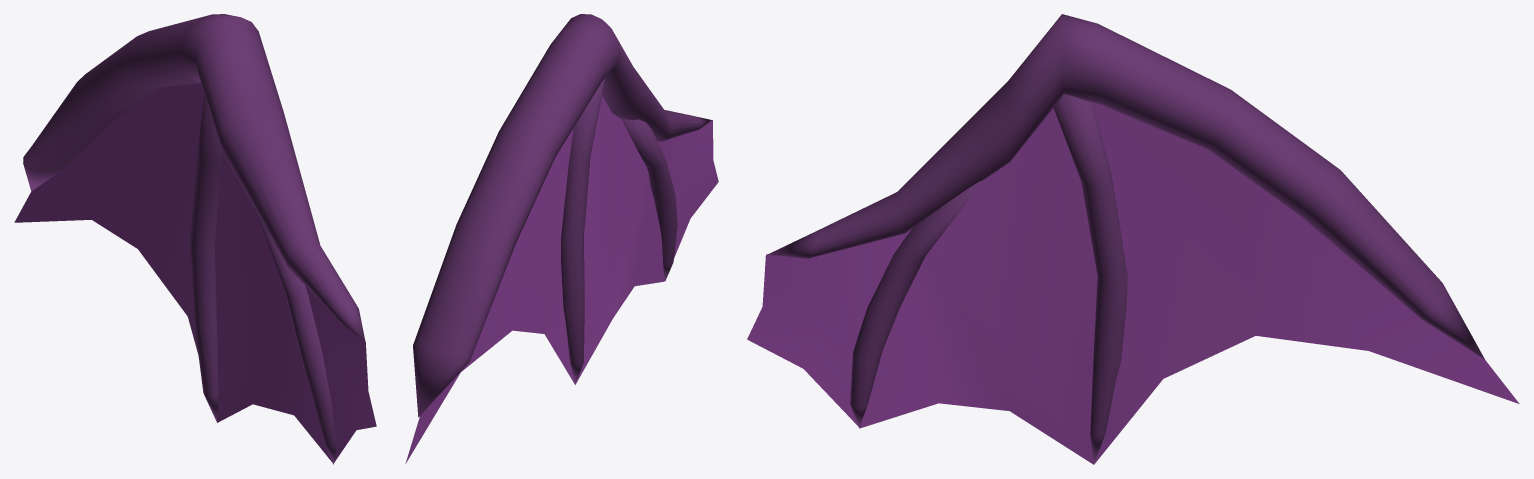
File: wing color.fbx
3 views of the same model, side by side, from view 1: azimuth 30°, elevation 25°; view 2: azimuth 150°, elevation 25°; view 3: azimuth 270°, elevation 25° (orthographic). The views are drawn at different scales.
Visible parts, largest first — view 1: Plane.002, Cylinder.015, Cylinder.016, Cylinder.017; view 2: Cylinder.015, Plane.002, Cylinder.016, Cylinder.017; view 3: Plane.002, Cylinder.015, Cylinder.016, Cylinder.017.
Part boxes in pixels (bbox=[...]): Plane.002: bbox=[14, 83, 376, 462]; Cylinder.015: bbox=[23, 14, 365, 341]; Cylinder.016: bbox=[189, 94, 222, 422]; Cylinder.017: bbox=[257, 214, 336, 464]; Cylinder.015: bbox=[413, 14, 711, 417]; Plane.002: bbox=[405, 95, 718, 463]; Cylinder.016: bbox=[561, 78, 605, 384]; Cylinder.017: bbox=[621, 119, 677, 281]; Plane.002: bbox=[747, 103, 1519, 464]; Cylinder.015: bbox=[767, 14, 1484, 359]; Cylinder.016: bbox=[1053, 94, 1127, 463]; Cylinder.017: bbox=[850, 179, 984, 428].
Bounding box in the file's own units: 8.31 × 50.43 × 79.32.
